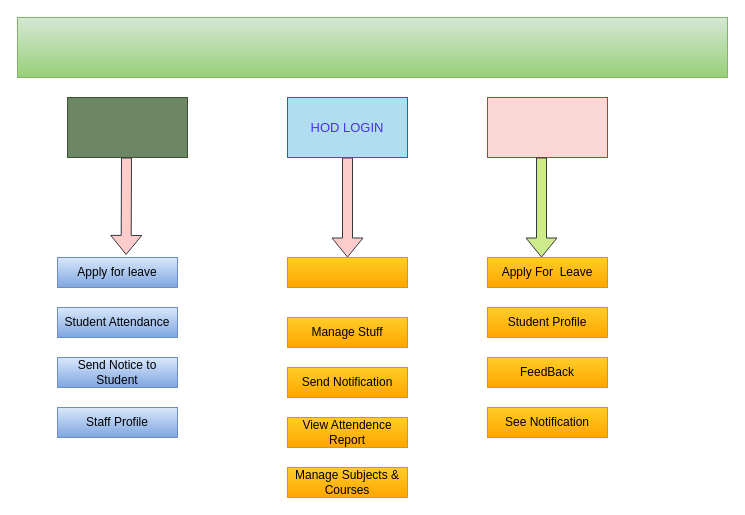
This 745x515 diagram has some shape labels left out. Each missing label, with the box of its shape:
Manage Students: (286, 256, 408, 288)
School Management System Features and Modules: (16, 16, 728, 78)
STAFF LOGIN: (66, 96, 188, 158)
Student login: (486, 96, 608, 158)
